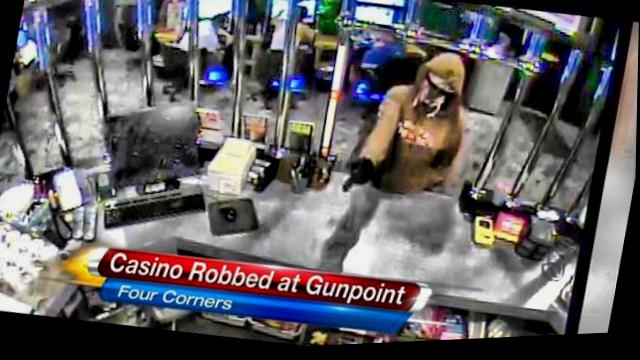pistol: (325, 156, 386, 208)
